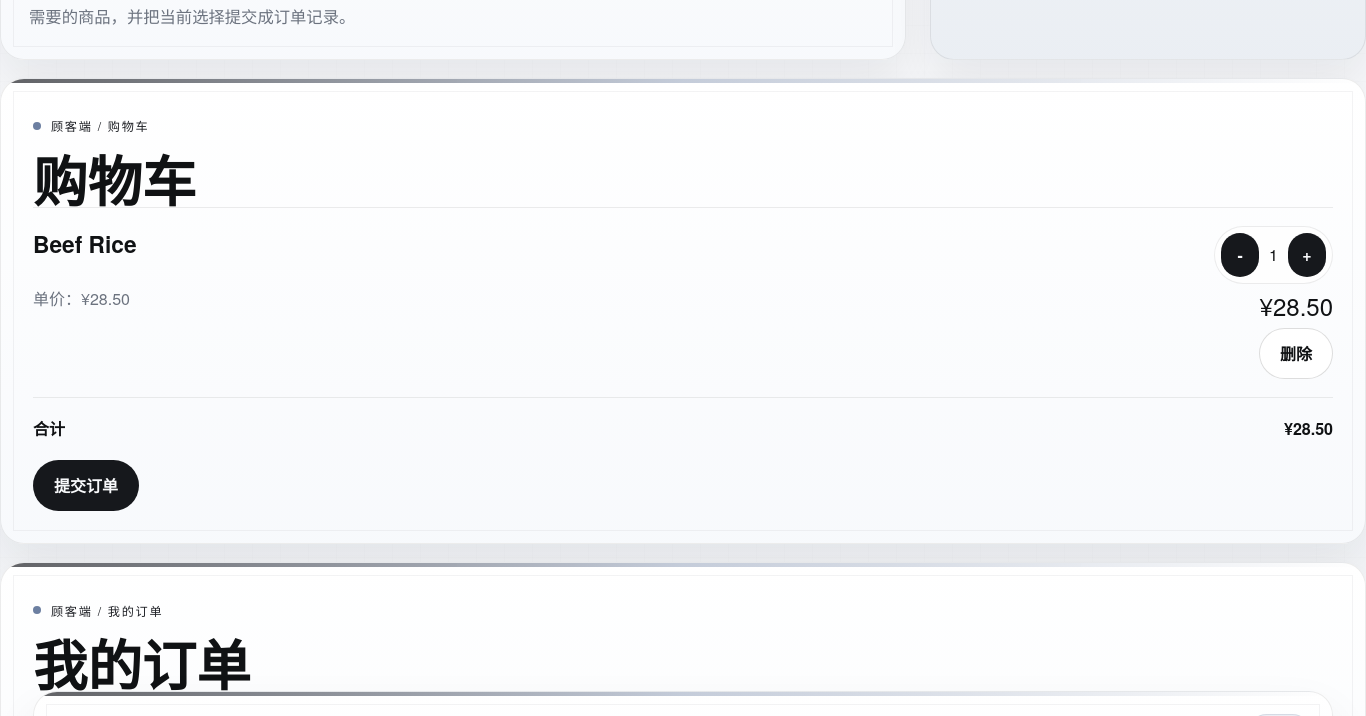
Test: CartDashboard › removes a cart item and shows the empty state
(page scrolled)
Expected: the heading "Beef Rice" is shown, [33,226,136,262]
Step 1. Click the button "删除" → (1296, 353), box [1259,328,1333,379]
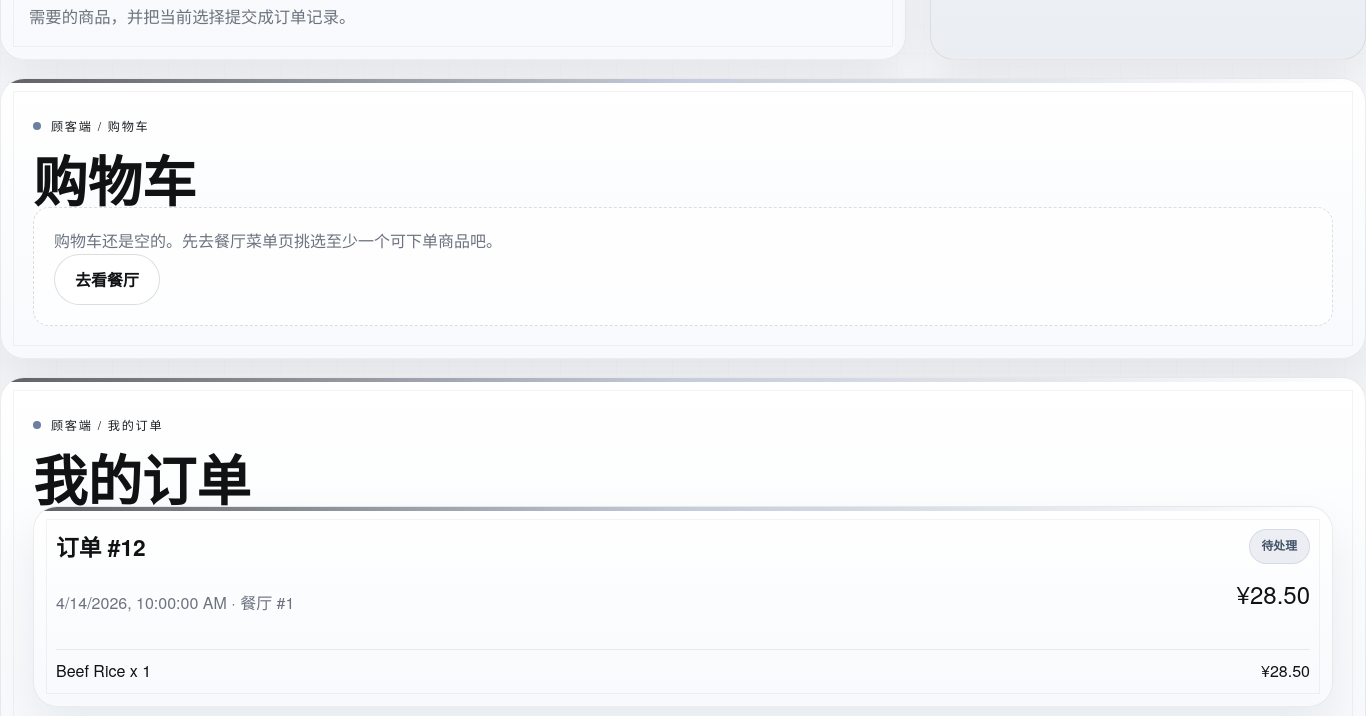
Now the text "购物车还是空的。先去餐厅菜单页挑选至少一个可下单商品吧。" is shown, box [54,229,502,252]
